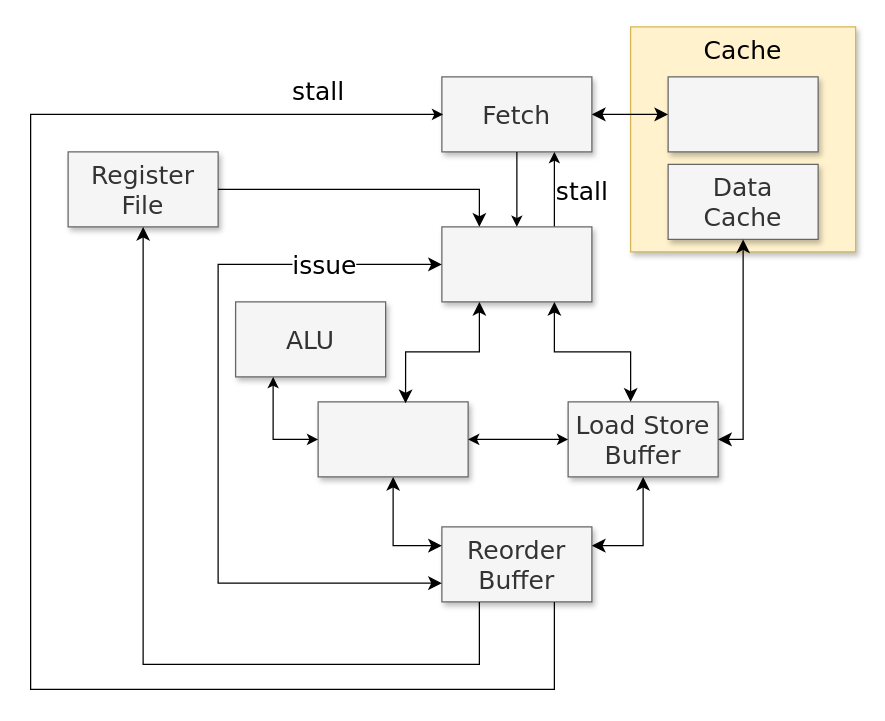
Image size: 885x721. Some labels were removed from this diagram. The centre of each missing label's shape, as x and y in pixels:
"Decode" belongs at (x=517, y=266).
"Instruction Cache" belongs at (x=744, y=116).
"Reservation Station" belongs at (x=394, y=441).
